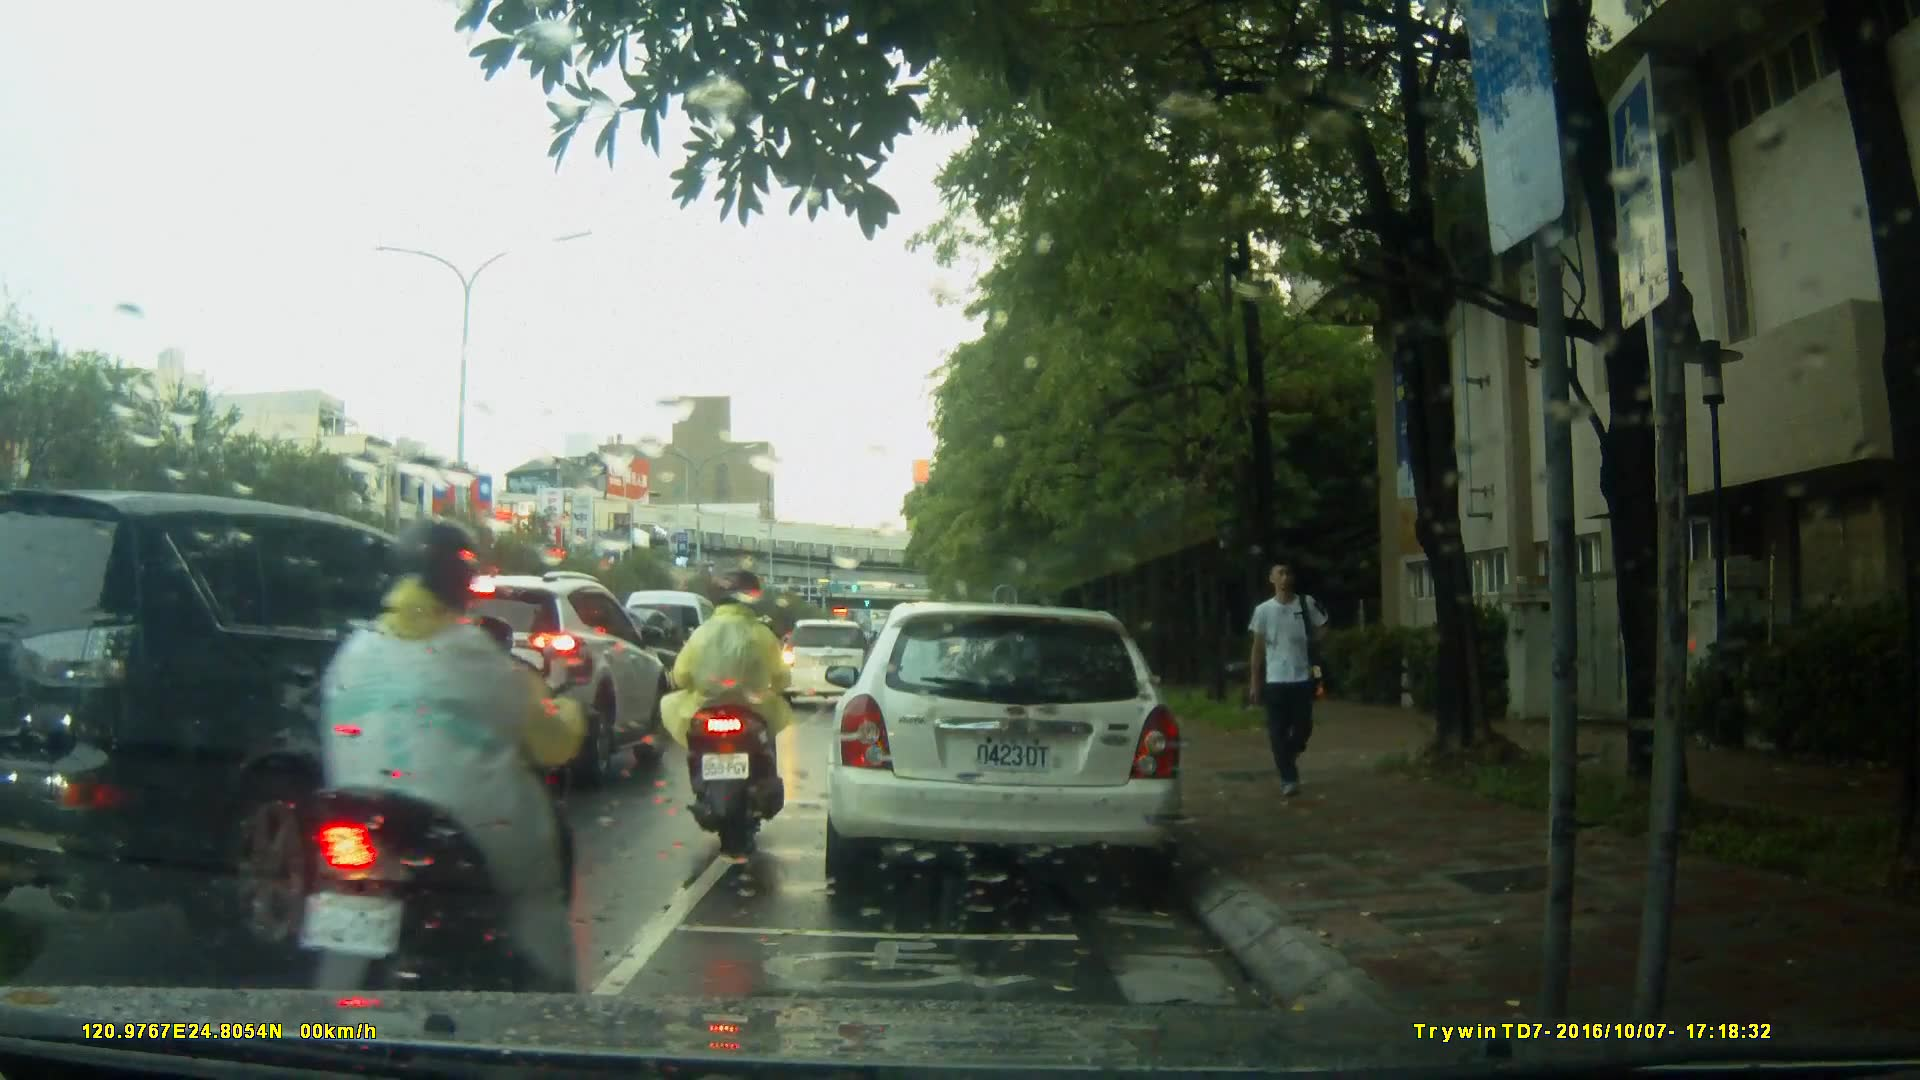pedestrian: (1234, 556, 1335, 807)
rider: (294, 515, 608, 1029), (667, 566, 803, 852)
vehicle: (1, 484, 579, 965), (820, 602, 1188, 898), (368, 567, 672, 782), (616, 588, 734, 716), (770, 617, 879, 710)
